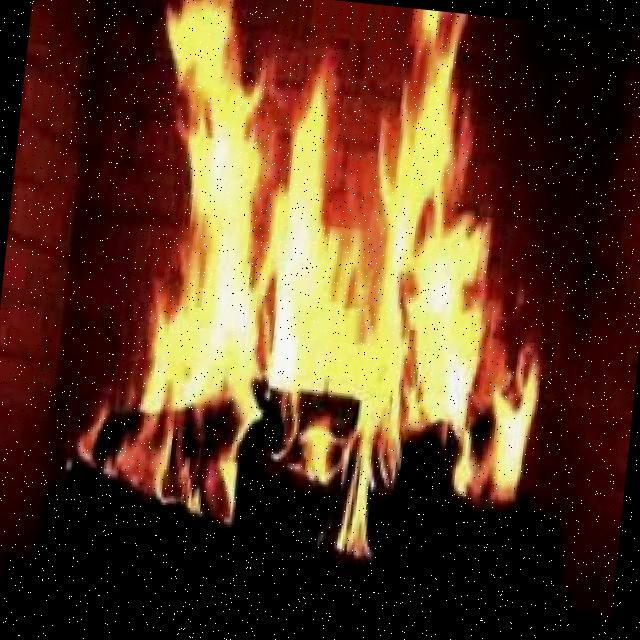Fire: (140, 32, 568, 505)
